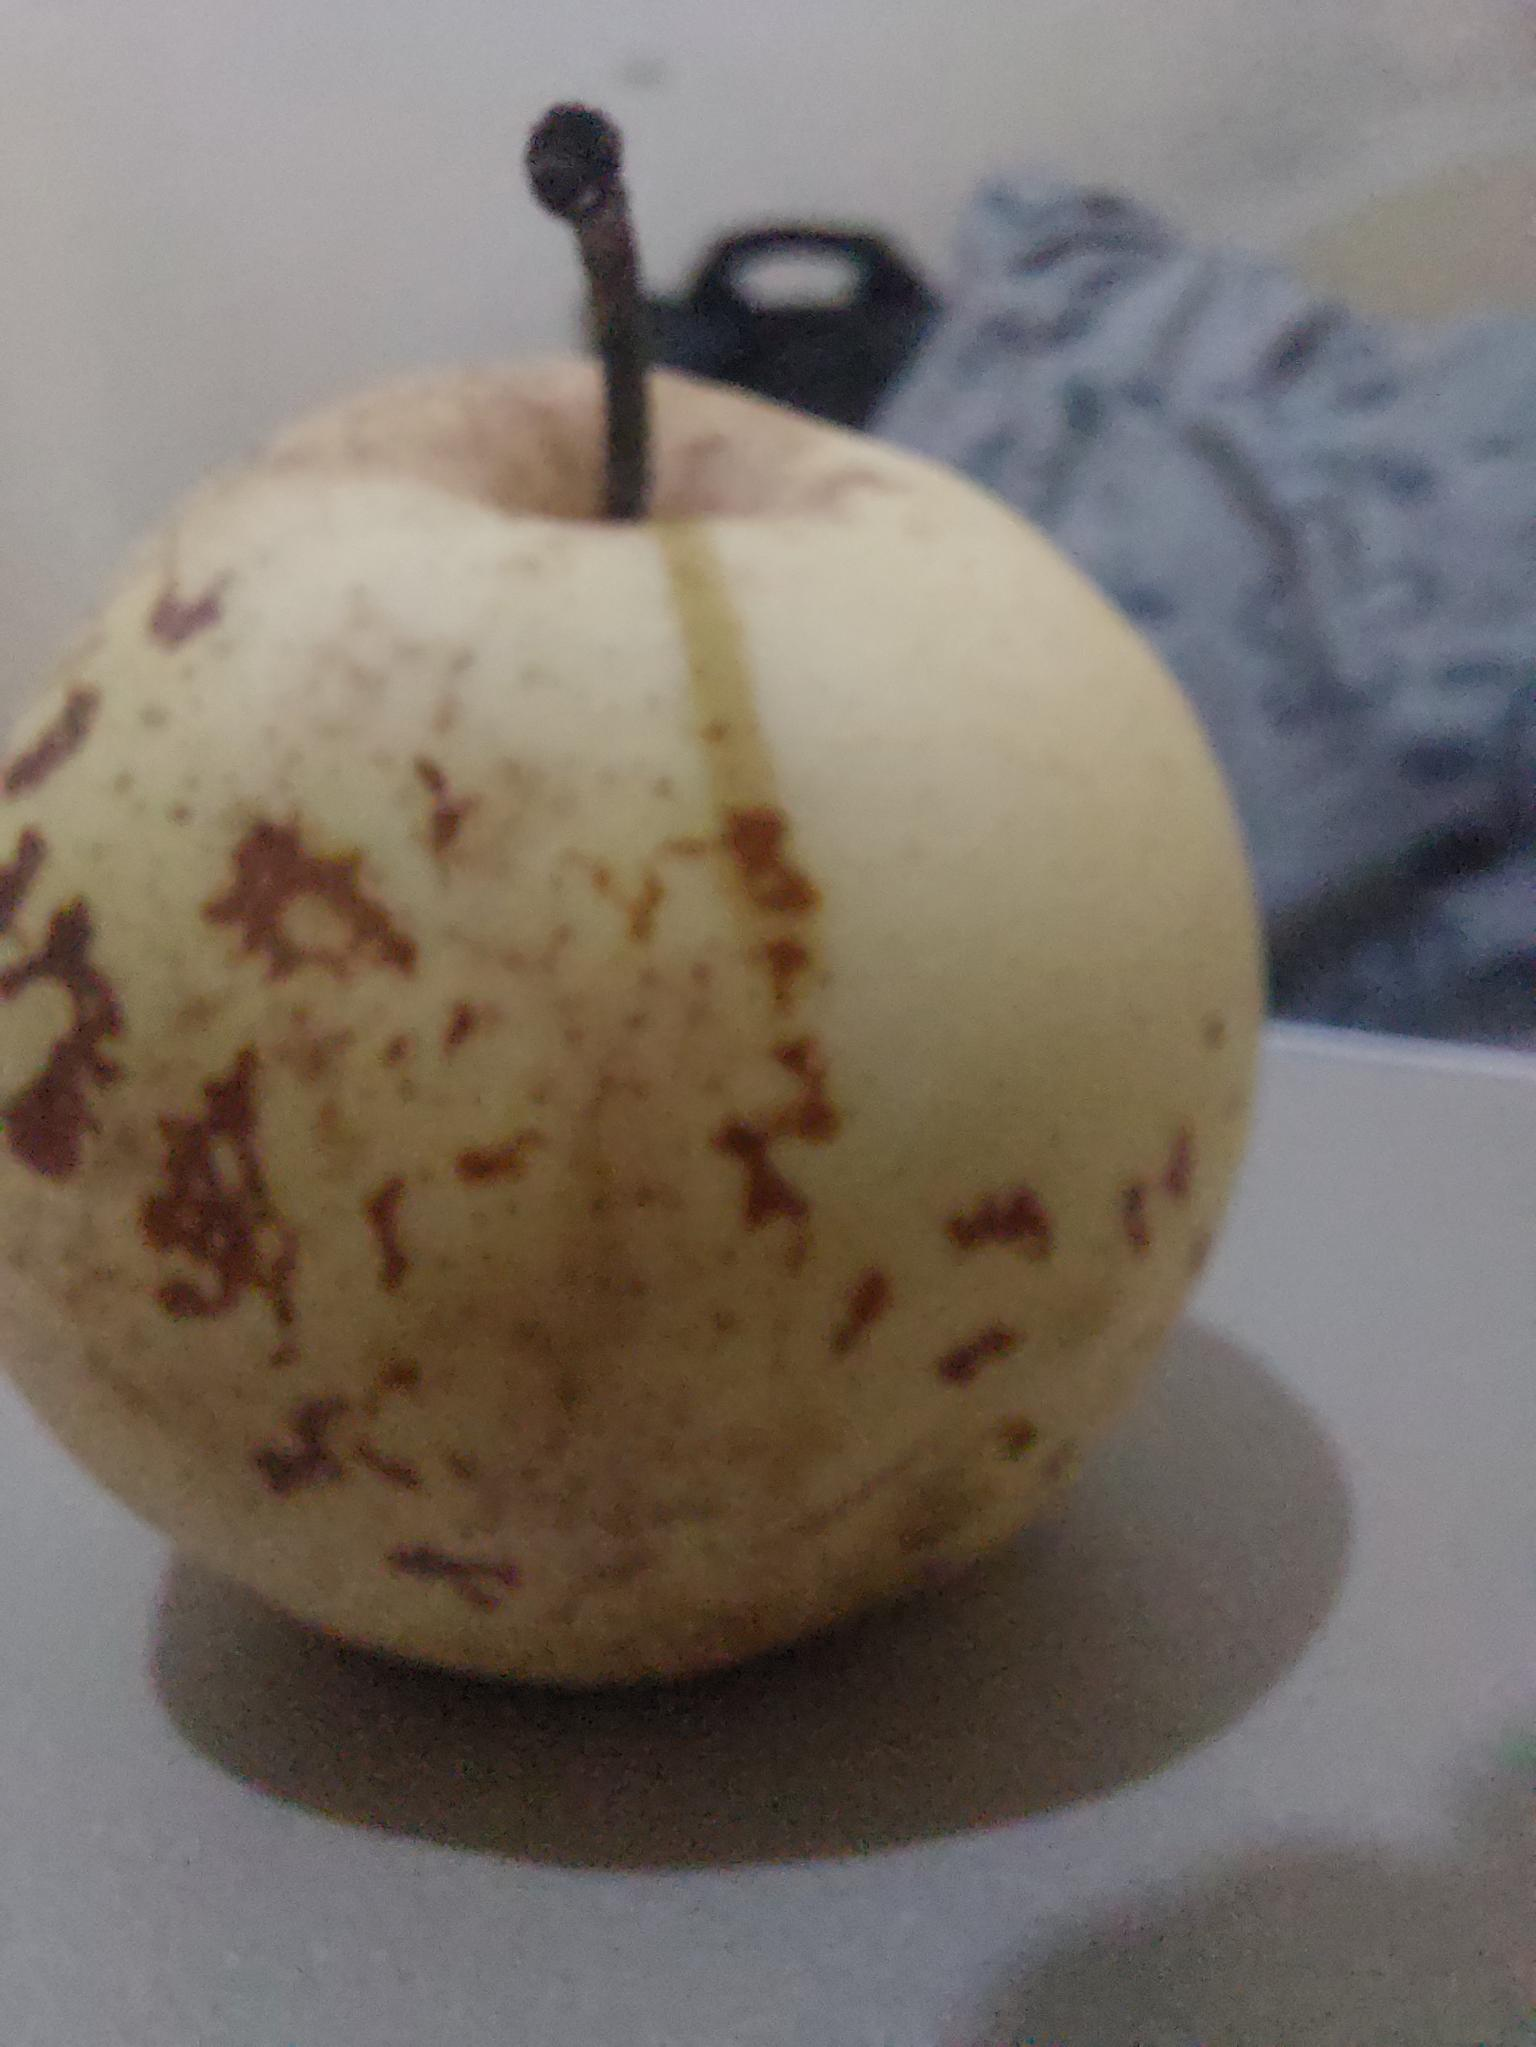Bad Pear: (0, 336, 1283, 1710)
